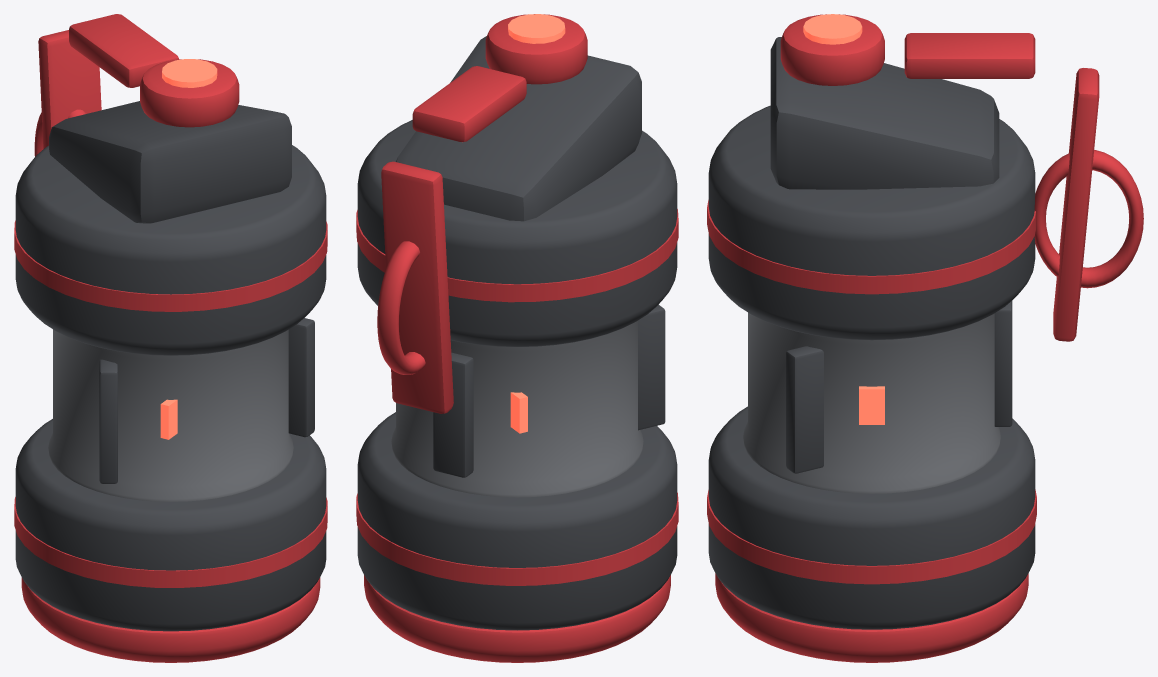
Rendered from scarlet_fuse.glb.
The picture shows the model from 3 angles, left to right: view 1: azimuth 30°, elevation 25°; view 2: azimuth 150°, elevation 25°; view 3: azimuth 270°, elevation 25°; orthographic projection. The views are drawn at different scales.
Visible parts, largest first — view 1: Upper, Lower, Waist, Cube.009, Foot, Cylinder.001, Cylinder, Cube.011, Cube.010, Cylinder.002, Cube.002, Cube.001 (+3 smaller); view 2: Lower, Upper, Waist, Cube.009, Cube.011, Foot, Cylinder, Cube.010, Cylinder.001, Cylinder.002, Cube, Torus (+5 smaller); view 3: Upper, Lower, Waist, Cube.009, Foot, Cube.011, Cylinder, Cylinder.001, Cube.010, Cylinder.002, Torus, Cube.005 (+4 smaller).
Part boxes in pixels (x1,y1,x2,y2): Upper: (15,145,326,355); Lower: (15,419,326,631); Waist: (48,329,293,501); Cube.009: (49,101,291,223); Foot: (21,577,320,662); Cylinder.001: (14,220,327,311); Cylinder: (14,497,327,587); Cube.011: (38,30,101,148); Cube.010: (69,14,178,87); Cylinder.002: (140,59,239,127); Cube.002: (288,318,314,437); Cube.001: (99,361,117,483); Lower: (357,412,677,630); Upper: (357,120,677,346); Waist: (391,320,643,497); Cube.009: (396,36,641,221); Cube.011: (381,161,453,413); Foot: (364,575,670,662); Cylinder: (356,492,678,585); Cube.010: (412,66,526,142); Cylinder.001: (356,209,678,302); Cylinder.002: (485,14,587,84); Cube: (433,352,473,477); Torus: (377,241,425,374); Upper: (708,105,1035,340); Lower: (708,406,1035,629); Waist: (743,312,1000,493); Cube.009: (770,37,999,189); Foot: (715,573,1028,662); Cube.011: (1053,68,1099,341); Cylinder: (707,489,1036,584); Cylinder.001: (707,200,1035,294); Cube.010: (904,33,1035,78); Cylinder.002: (780,14,884,85); Torus: (1034,150,1143,288); Cube.005: (787,346,823,473).
Bounding box in the file's own units: 0.101 × 0.195 × 0.1338.
